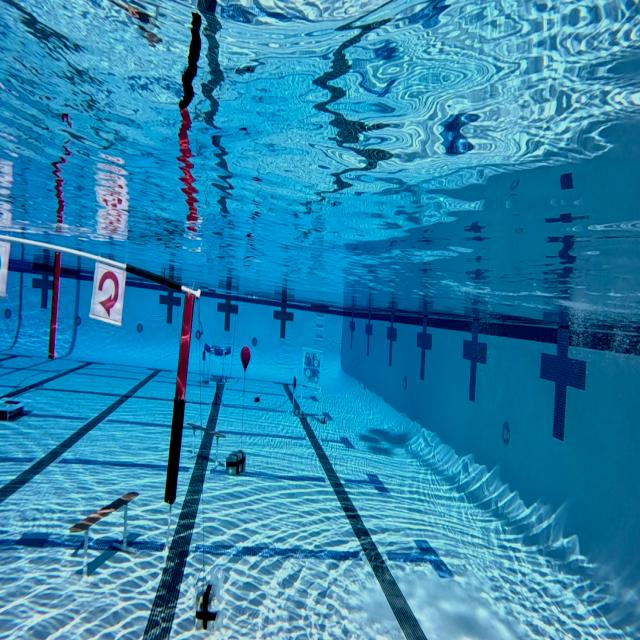red_side: (91, 254, 125, 328)
